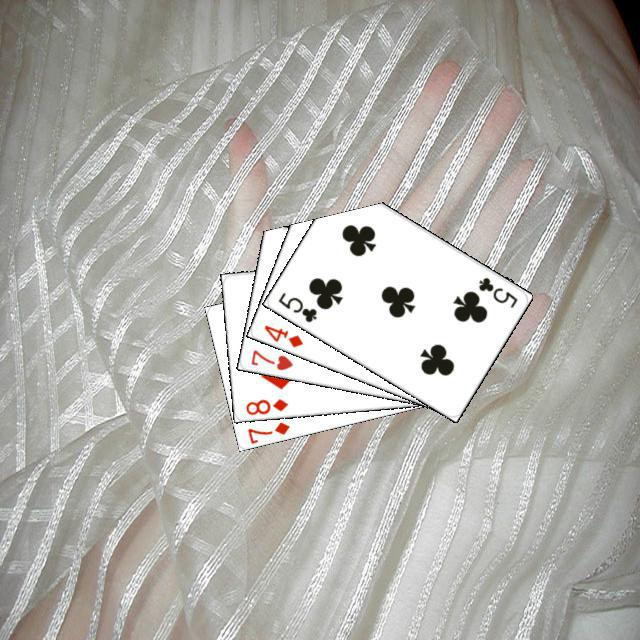4d: (259, 320, 305, 349)
5c: (473, 272, 519, 310), (273, 287, 319, 324)
7d: (242, 417, 291, 444)
7h: (246, 345, 294, 372)
8d: (241, 394, 289, 416)
